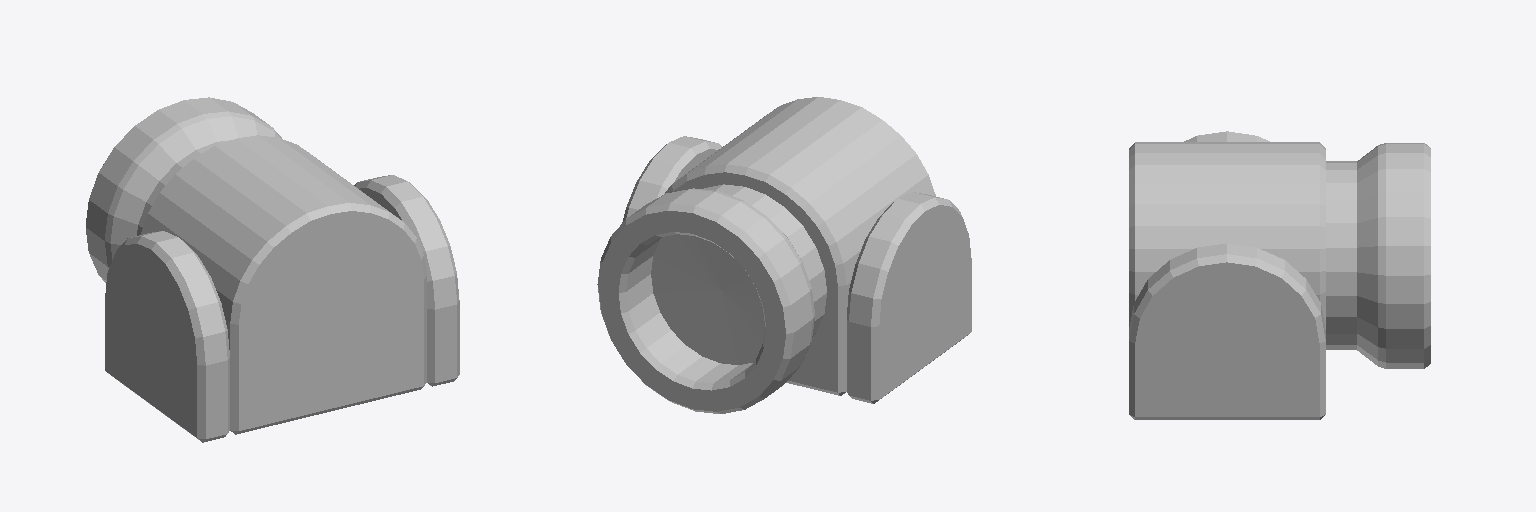
File: banzai_bill_launcher.obj
3 views of the same model, side by side, from view 1: azimuth 30°, elevation 25°; view 2: azimuth 150°, elevation 25°; view 3: azimuth 270°, elevation 25° (orthographic).
Visible parts, largest first — view 1: KillerLauncher__BodyMT; view 2: KillerLauncher__BodyMT; view 3: KillerLauncher__BodyMT.
Part boxes in pixels (x1,y1,x2,y2): KillerLauncher__BodyMT: (86, 97, 459, 442); KillerLauncher__BodyMT: (597, 97, 971, 413); KillerLauncher__BodyMT: (1129, 131, 1430, 419).
Bounding box in the file's own units: 15 × 11.26 × 14.97.